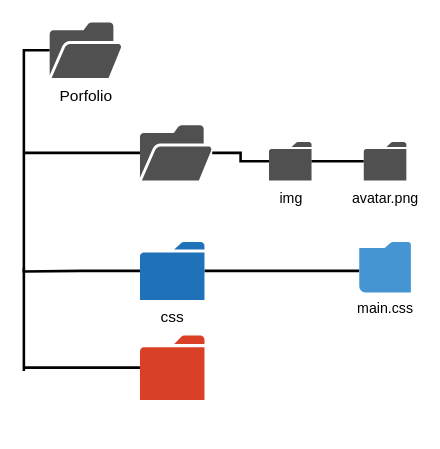
Image size: 440x449. Some labels were removed from this diagram. The box of each missing label's shape, as (x1, y1, x2, y2) in pixels:
assets: (139, 124, 212, 180)
index.html: (139, 335, 204, 399)
